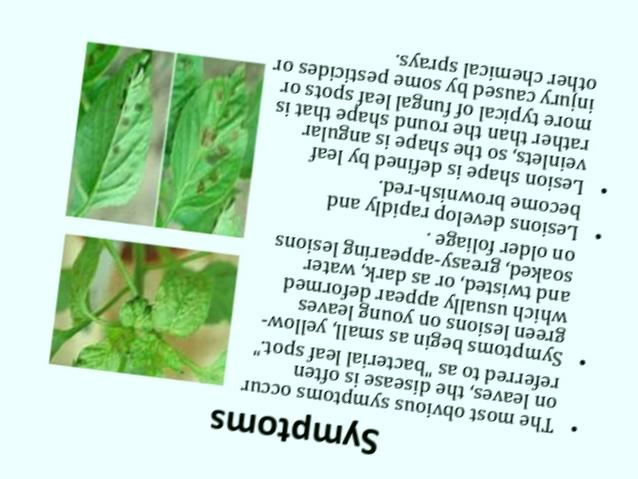Tomato leaf bacterial spot: (71, 48, 163, 221), (163, 61, 255, 230), (146, 253, 218, 335)
